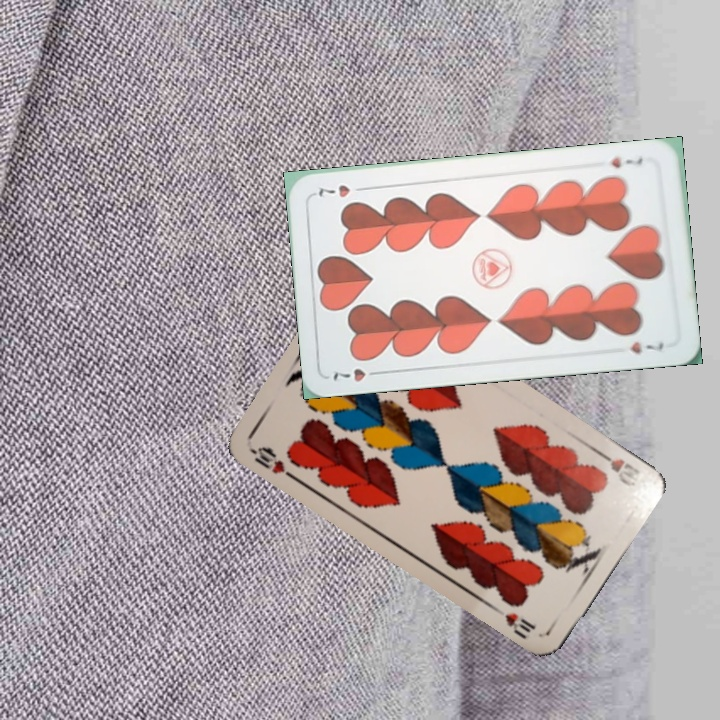H10: (247, 442, 300, 483), (592, 446, 643, 481)
H7: (328, 364, 386, 384), (607, 153, 646, 171)
